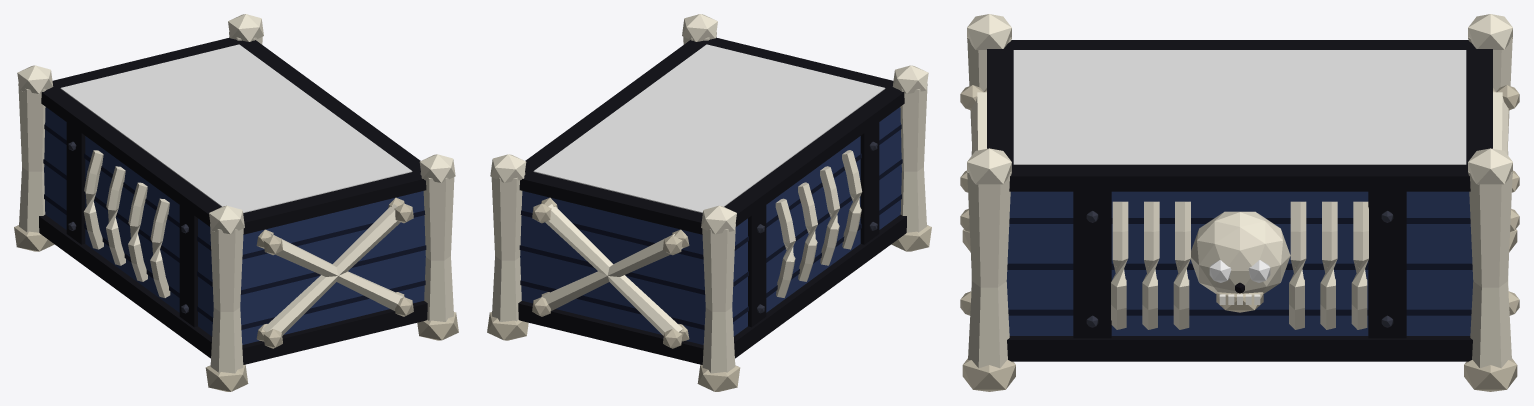
File: Chest_Bone.fbx
3 views of the same model, side by side, from view 1: azimuth 30°, elevation 25°; view 2: azimuth 150°, elevation 25°; view 3: azimuth 270°, elevation 25° (orthographic). The views are drawn at different scales.
Visible parts, largest first — view 1: Chest_Bone; view 2: Chest_Bone; view 3: Chest_Bone.
Boxes of the visible parts, x1,y1,x2,y2 form: Chest_Bone: (14, 14, 458, 391); Chest_Bone: (487, 14, 931, 391); Chest_Bone: (960, 14, 1519, 391).
Size of the model in its own units: 0.8327 by 0.5578 by 1.16.
2 materials, 1 textured.
